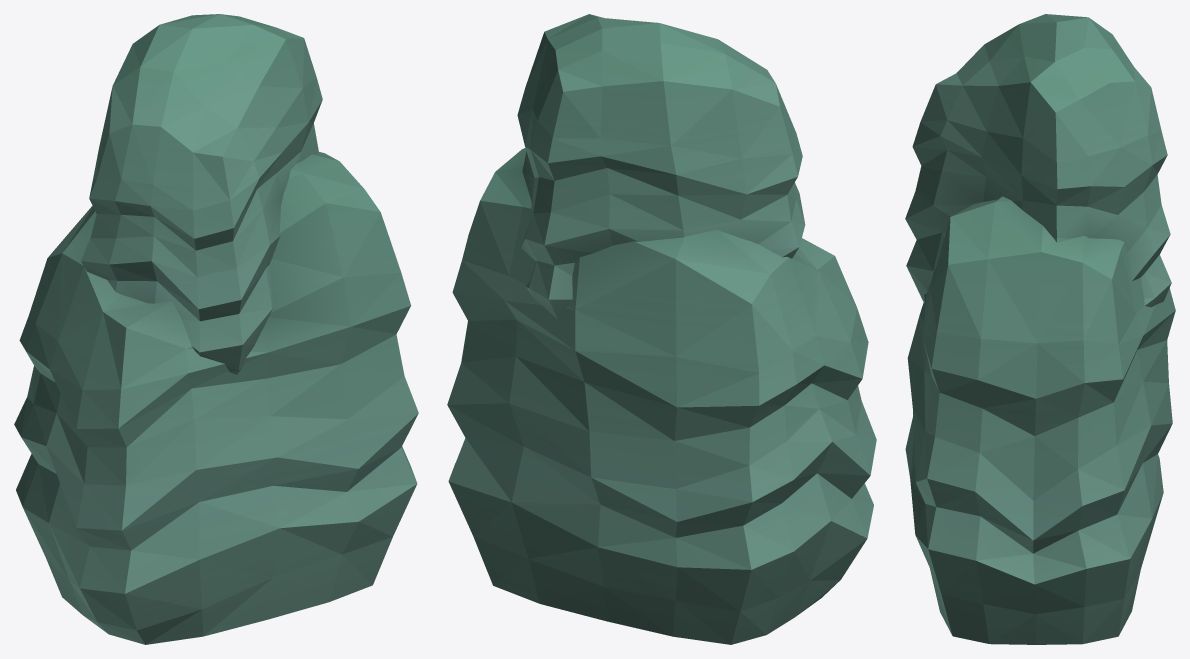
The model's file is bush_tall.glb.
The picture shows the model from 3 angles, left to right: view 1: azimuth 30°, elevation 25°; view 2: azimuth 150°, elevation 25°; view 3: azimuth 270°, elevation 25°; orthographic projection. The views are drawn at different scales.
Parts seen in each view (by area): view 1: Bush_1_1_A; view 2: Bush_1_1_A; view 3: Bush_1_1_A.
Boxes of the visible parts, x1,y1,x2,y2 form: Bush_1_1_A: (14,14,418,644); Bush_1_1_A: (447,14,876,644); Bush_1_1_A: (905,14,1175,644).
Size of the model in its own units: 0.786 by 1.2 by 0.534.
1 material, 1 textured.
